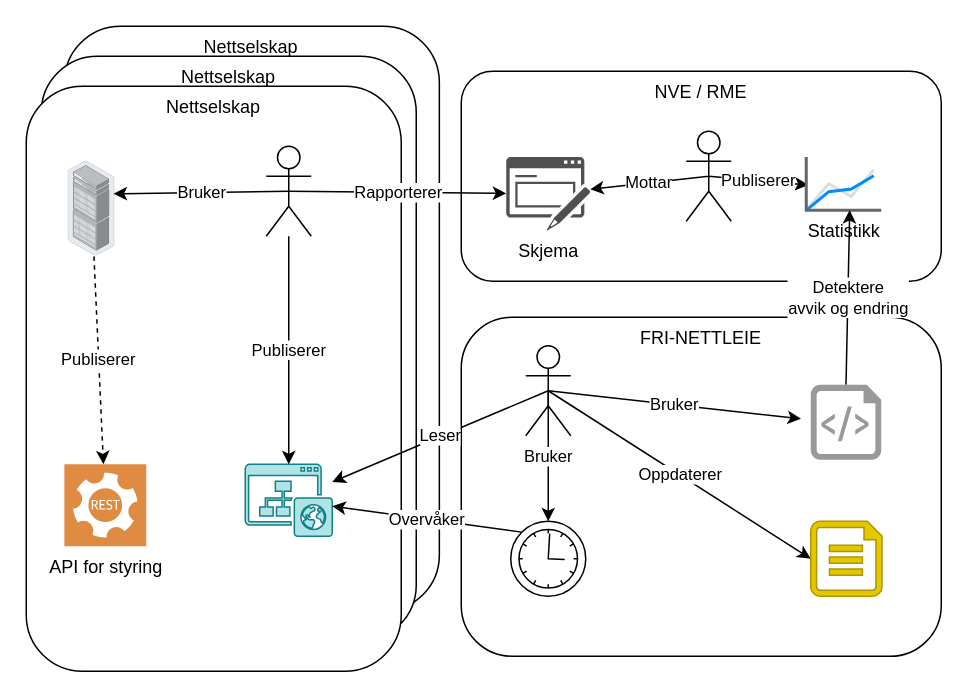
Image size: 968x698. Some labels were removed from this diagram. The shapes that lost their labels are listed below. From the top down, each one's centre as x and y in pixels, then its label:
pixel 91 208: System som beregner tariffer
pixel 288 499: Nettside
pixel 547 558: ChangeDetection
pixel 845 558: Tariffer
